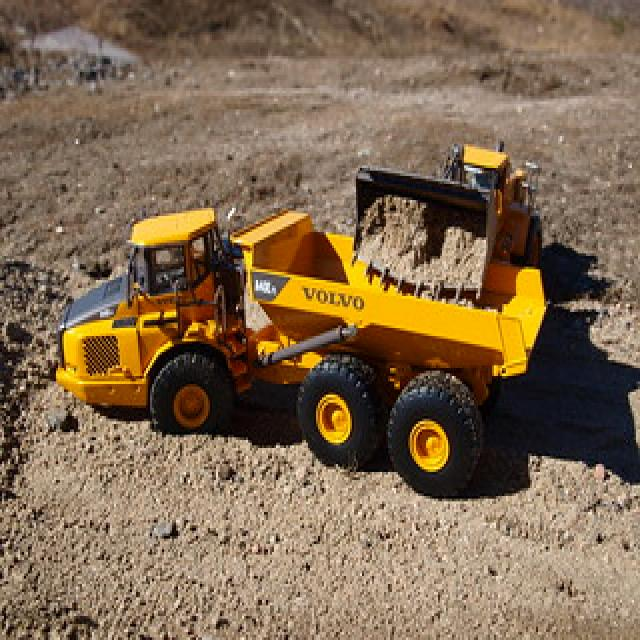dump_truck: (58, 192, 544, 509)
